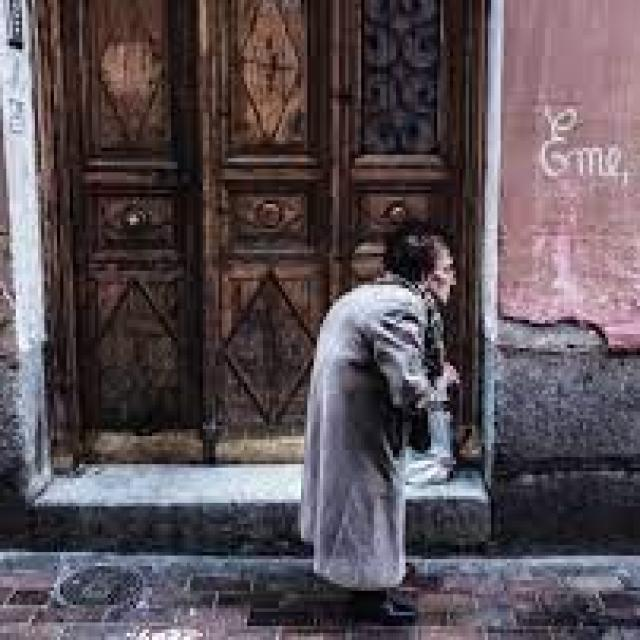idoso em pe: (296, 221, 472, 603)
